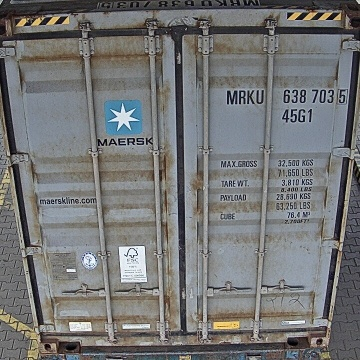serial_id: (226, 88, 347, 104)
